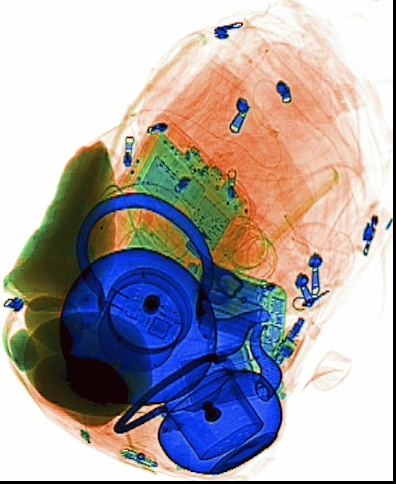powerbank: (183, 257, 287, 346)
